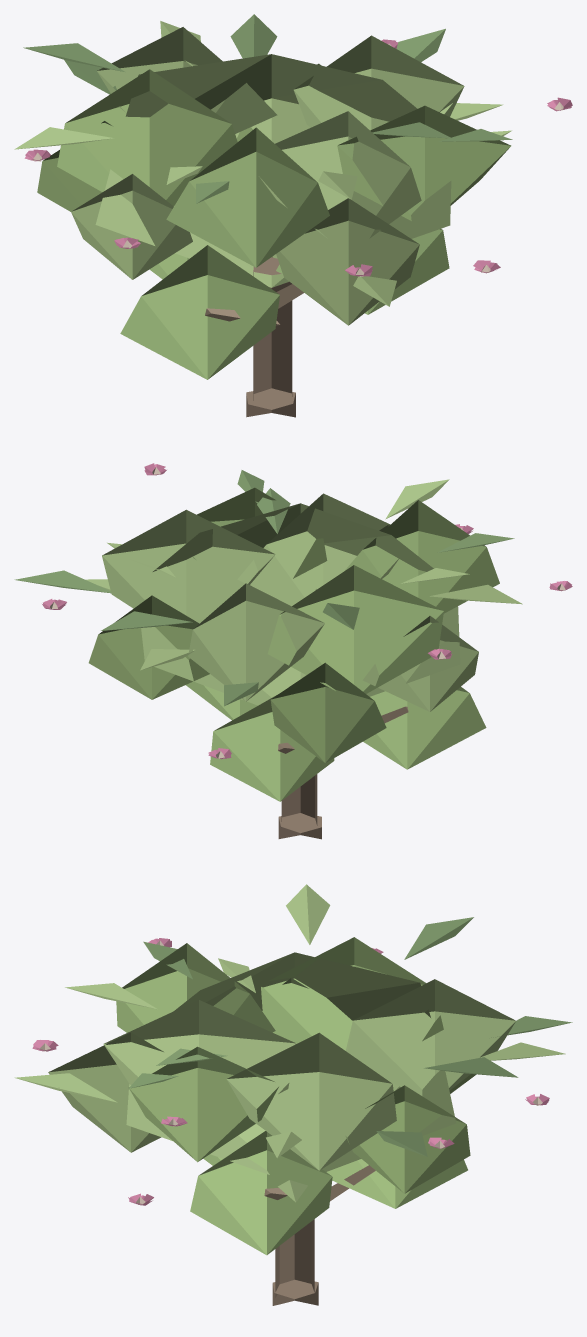
The model's file is shu.chuilui@flowering__spring.glb.
3 views of the same model, one above another, from view 1: azimuth 30°, elevation 25°; view 2: azimuth 150°, elevation 25°; view 3: azimuth 270°, elevation 25° (orthographic). The views are drawn at different scales.
Parts seen in each view (by area): view 1: shu.chuilui@flowering__spring; view 2: shu.chuilui@flowering__spring; view 3: shu.chuilui@flowering__spring.
Part boxes in pixels (<box>): shu.chuilui@flowering__spring: <box>14,14,572,417</box>; shu.chuilui@flowering__spring: <box>14,463,572,839</box>; shu.chuilui@flowering__spring: <box>14,884,572,1305</box>.
Bounding box in the file's own units: 15.32 × 10.49 × 15.84.
